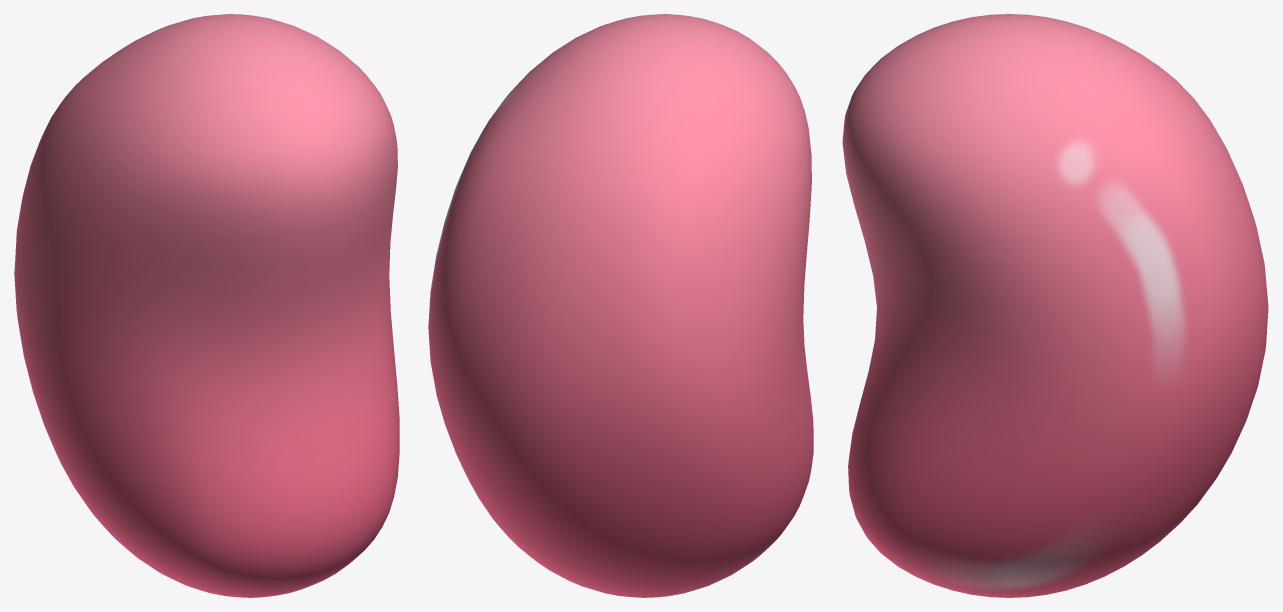
The model's file is JellyBean_Pink.fbx.
3 renders of one model, left to right at view 1: azimuth 30°, elevation 25°; view 2: azimuth 150°, elevation 25°; view 3: azimuth 270°, elevation 25°, orthographic.
Parts seen in each view (by area): view 1: JellyBean; view 2: JellyBean; view 3: JellyBean.
Boxes of the visible parts, x1,y1,x2,y2 form: JellyBean: [14, 14, 399, 597]; JellyBean: [428, 14, 813, 597]; JellyBean: [842, 14, 1268, 597].
Size of the model in its own units: 56.01 by 91.46 by 63.72.
1 material, 1 textured.
